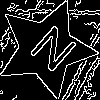N: (21, 23, 79, 82)
